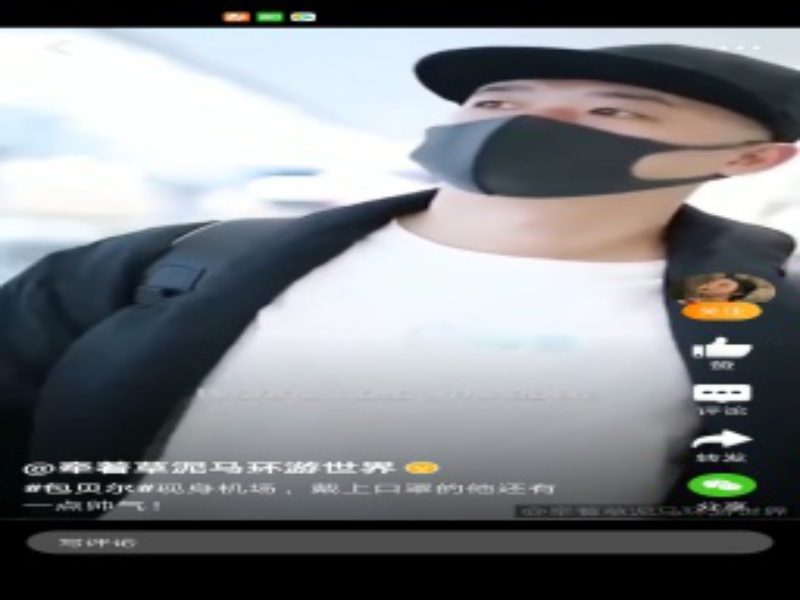ManaoArotava: (410, 33, 717, 240)
